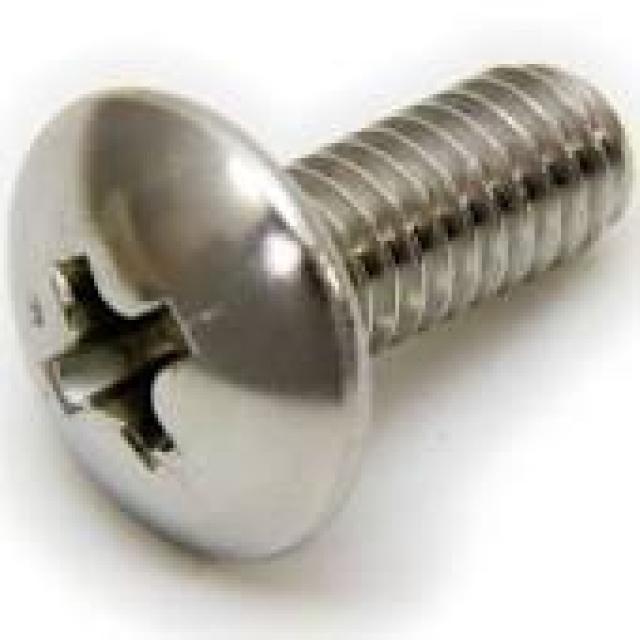Screw: (4, 60, 636, 572)
